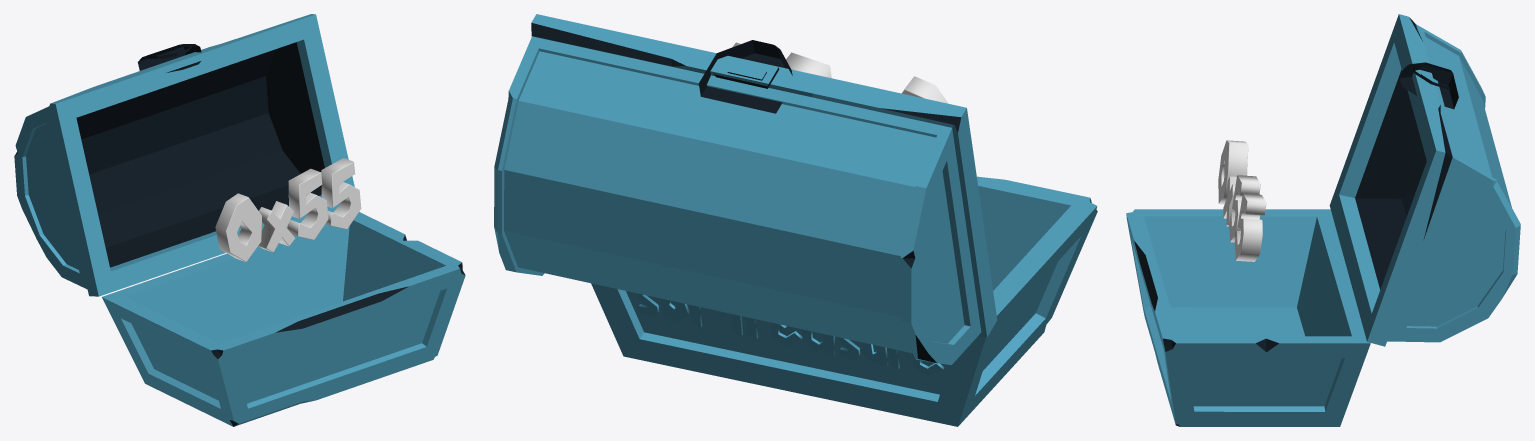
The model's file is blue_chest.glb.
The picture shows the model from 3 angles, left to right: view 1: azimuth 30°, elevation 25°; view 2: azimuth 150°, elevation 25°; view 3: azimuth 270°, elevation 25°; orthographic projection. The views are drawn at different scales.
Visible parts, largest first — view 1: Plane.003, Text.001; view 2: Plane.003, Text.001; view 3: Plane.003, Text.001.
Boxes of the visible parts, x1,y1,x2,y2 form: Plane.003: [14, 14, 465, 426]; Text.001: [215, 158, 361, 262]; Plane.003: [494, 14, 1097, 426]; Text.001: [732, 42, 948, 103]; Plane.003: [1126, 14, 1520, 426]; Text.001: [1218, 140, 1266, 261].
Bounding box in the file's own units: 4.91 × 4.26 × 5.09.
2 materials, 1 textured.
